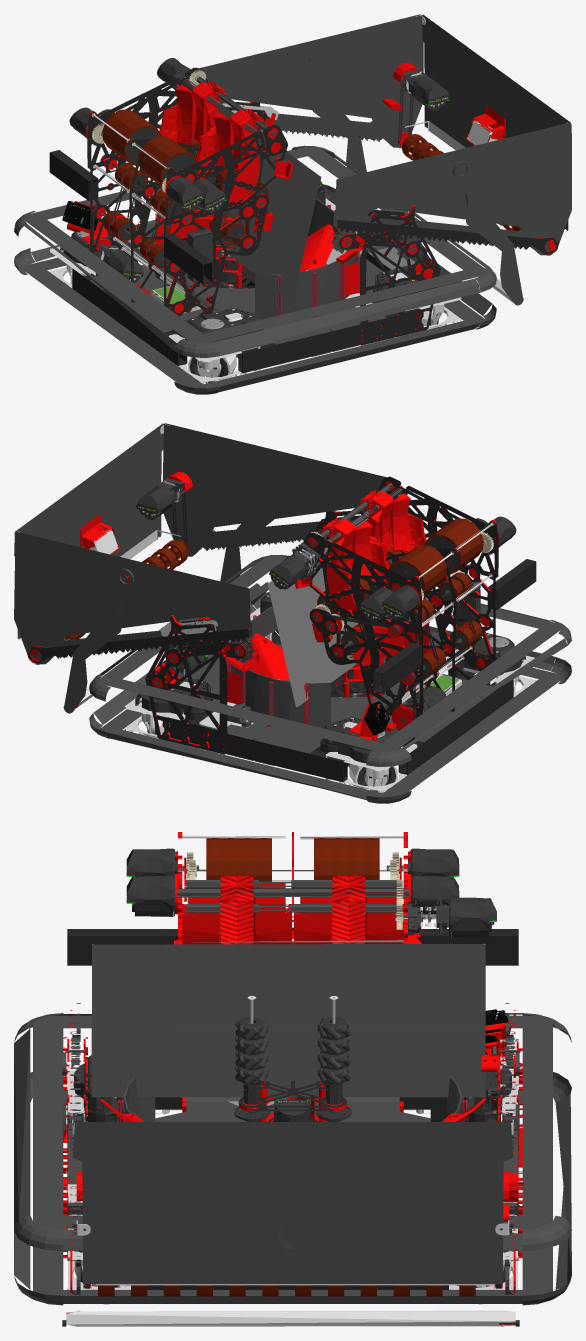
The model's file is robot201.glb.
The picture shows the model from 3 angles, top to bottom: view 1: azimuth 30°, elevation 25°; view 2: azimuth 150°, elevation 25°; view 3: azimuth 270°, elevation 25°; orthographic projection. The views are drawn at different scales.
Visible parts, largest first — view 1: F26-PRT-IN-ALT-15 (×3), Bumper, F26-PRT-IN-ALT-40, Part 52, F26-PRT-KR-MK-47 (×2), F26-PRT-SH-MK-51 (×2), F26-PRT-SP-MK-9, F26-PRT-IN-ALT-20 (×2), F26-PRT-IN-MK-11, F26-PRT-CH-MK-36, Kraken X60 Brushless Motor (×4), F26-PRT-SP-MK-21 (+18 smaller); view 2: F26-PRT-IN-ALT-15 (×3), Bumper, F26-PRT-IN-ALT-40, F26-PRT-KR-MK-47 (×2), Part 52, F26-PRT-SH-MK-51 (×2), F26-PRT-IN-MK-11, F26-PRT-SP-MK-21 (×2), SDS MK5n Top Assembly (A) (×3), F26-PRT-SP-MK-9, F26-PRT-IN-ALT-20 (×2), F26-PRT-CH-MK-37 (+20 smaller); view 3: F26-PRT-IN-ALT-40, Part 52, Bumper, Kraken X60 Brushless Motor (×6), F26-PRT-IN-ALT-42, 4" Stealth Wheel (35A, 1/2" Hex Bore) (×8), Tube 2"x1"x7" (×2), Spur gear (170 teeth)-Mirrored (×2), F26-PRT-SP-MK-21, SDS MK5n Top Assembly (A) (×2), 13 in. Rounded Hex Shaft (×2), Part 48-Mirrored (+12 smaller).
Boxes of the visible parts, x1,y1,x2,y2 form: F26-PRT-IN-ALT-15 (×3): (199,14,571,255); Bumper: (14,145,496,394); F26-PRT-IN-ALT-40: (422,14,570,231); Part 52: (161,103,321,300); F26-PRT-KR-MK-47 (×2): (90,142,268,334); F26-PRT-SH-MK-51 (×2): (87,67,287,225); F26-PRT-SP-MK-9: (161,198,356,319); F26-PRT-IN-ALT-20 (×2): (312,110,523,305); F26-PRT-IN-MK-11: (358,205,440,345); F26-PRT-CH-MK-36: (238,308,420,373); Kraken X60 Brushless Motor (×4): (106,76,449,282); F26-PRT-SP-MK-21: (90,222,331,344); F26-PRT-IN-ALT-15 (×3): (14,423,389,664); Bumper: (89,554,571,803); F26-PRT-IN-ALT-40: (14,423,164,640); F26-PRT-KR-MK-47 (×2): (320,551,496,746); Part 52: (267,485,428,707); F26-PRT-SH-MK-51 (×2): (303,476,498,634); F26-PRT-IN-MK-11: (145,614,227,754); F26-PRT-SP-MK-21 (×2): (191,631,495,753); SDS MK5n Top Assembly (A) (×3): (124,633,534,771); F26-PRT-SP-MK-9: (229,606,424,728); F26-PRT-IN-ALT-20 (×2): (63,471,274,713); F26-PRT-CH-MK-37: (167,717,347,782); F26-PRT-IN-ALT-40: (72,1121,513,1285); Part 52: (91,943,485,1097); Bumper: (14,1013,571,1305); Kraken X60 Brushless Motor (×6): (126,848,496,1121); F26-PRT-IN-ALT-42: (66,1310,515,1326); 4" Stealth Wheel (35A, 1/2" Hex Bore) (×8): (206,838,379,902); Tube 2"x1"x7" (×2): (67,929,518,965); Spur gear (170 teeth)-Mirrored (×2): (220,875,365,944); F26-PRT-SP-MK-21: (67,1101,518,1166); SDS MK5n Top Assembly (A) (×2): (67,1055,517,1116); 13 in. Rounded Hex Shaft (×2): (186,880,396,912); Part 48-Mirrored: (253,883,291,944).
Size of what is drawn, in the model's own units: 1.06 by 0.5586 by 0.8636.
